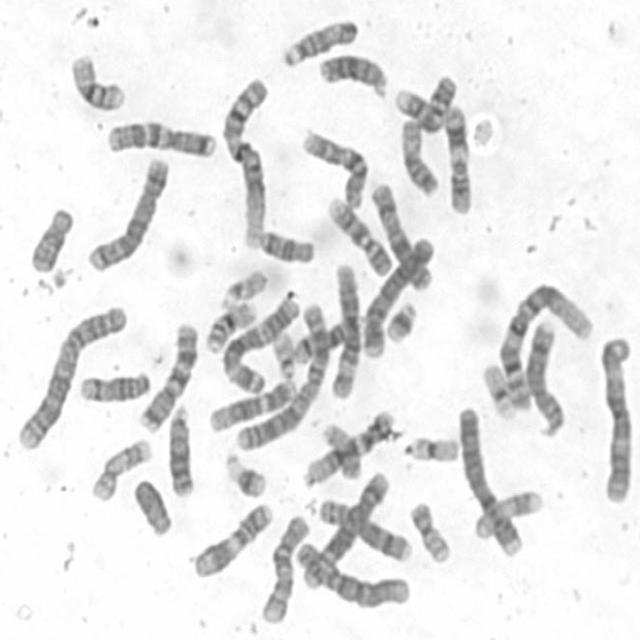A1: (493, 275, 598, 417), (216, 70, 274, 251)
A2: (13, 299, 130, 452), (232, 297, 332, 452)
A3: (217, 287, 303, 395), (594, 327, 637, 504)
B4: (452, 397, 524, 559), (358, 232, 435, 360)
B5: (296, 465, 394, 591), (82, 150, 172, 274)
C10: (297, 121, 371, 211), (257, 508, 312, 626)
C11: (188, 496, 276, 580), (439, 100, 475, 216)
C12: (298, 403, 400, 488), (202, 370, 300, 434)
C6: (293, 536, 415, 610), (326, 257, 362, 402)
C7: (134, 315, 202, 434), (102, 115, 218, 159)
C8: (314, 490, 415, 564), (523, 312, 567, 438)
C9: (323, 190, 394, 277), (390, 68, 460, 135)
D13: (315, 46, 392, 101), (163, 398, 197, 499)
D14: (288, 308, 366, 366), (74, 366, 153, 406)
D15: (276, 12, 361, 68), (396, 113, 442, 198)
E16: (64, 46, 128, 113), (201, 294, 259, 355)
E17: (87, 432, 154, 504), (469, 484, 545, 542)
E18: (24, 199, 78, 275), (254, 223, 318, 266)
F19: (479, 356, 518, 420), (401, 427, 462, 465)
F20: (405, 494, 455, 566), (317, 418, 364, 481)
G21: (220, 444, 269, 500), (380, 294, 420, 346)
G22: (215, 264, 269, 310), (266, 324, 298, 380)
X: (364, 175, 434, 292)
Y: (129, 473, 175, 538)
